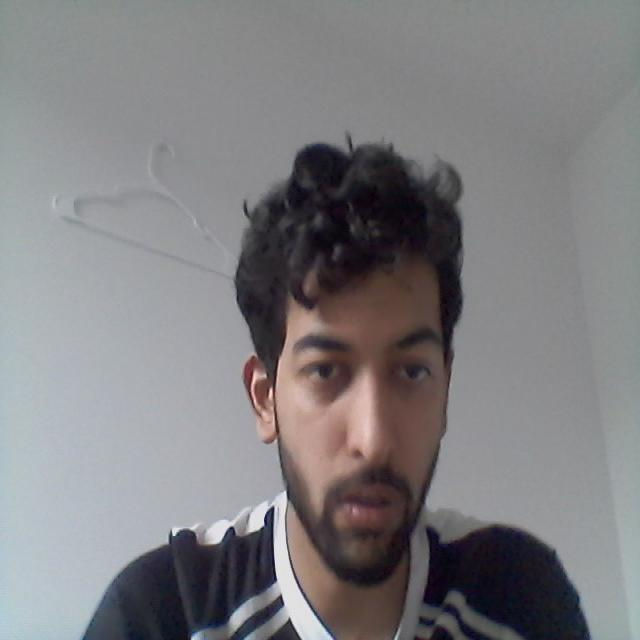nocap: (207, 109, 504, 375)
